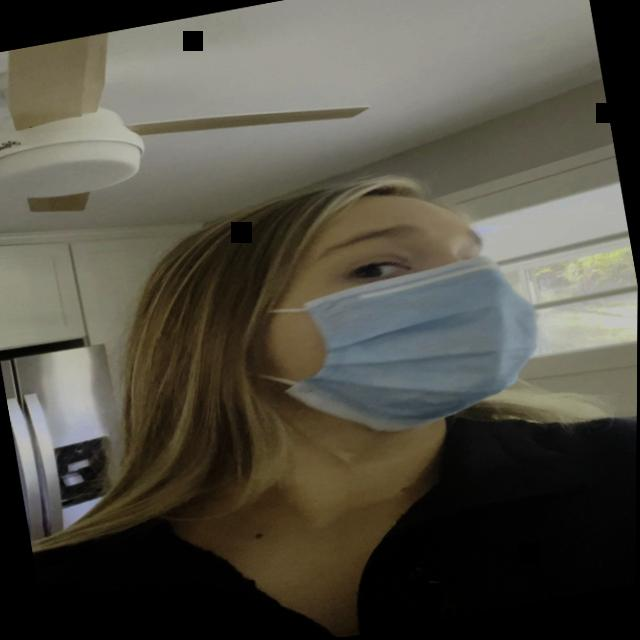Mask: (239, 164, 561, 455)
